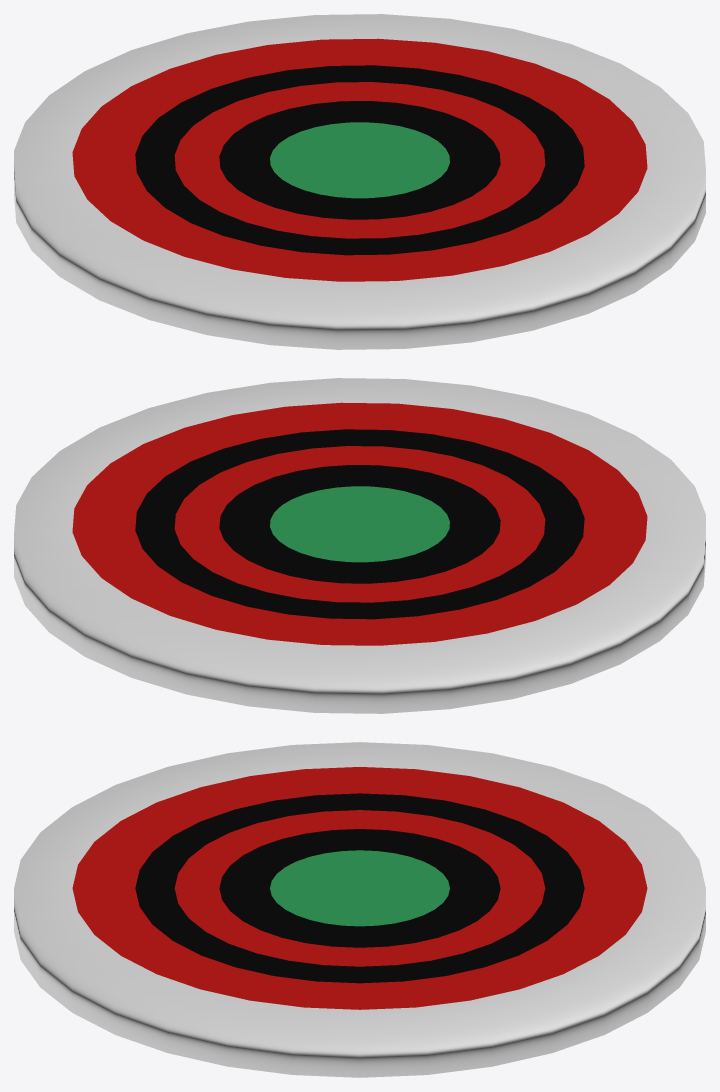
Rendered from R_target.fbx.
The picture shows the model from 3 angles, top to bottom: view 1: azimuth 30°, elevation 25°; view 2: azimuth 150°, elevation 25°; view 3: azimuth 270°, elevation 25°; orthographic projection.
Parts seen in each view (by area): view 1: Cylinder; view 2: Cylinder; view 3: Cylinder.
Part boxes in pixels (<box>): Cylinder: <box>14,14,705,349</box>; Cylinder: <box>14,378,705,713</box>; Cylinder: <box>14,742,705,1077</box>.
Bounding box in the file's own units: 200 × 13.8 × 200.
